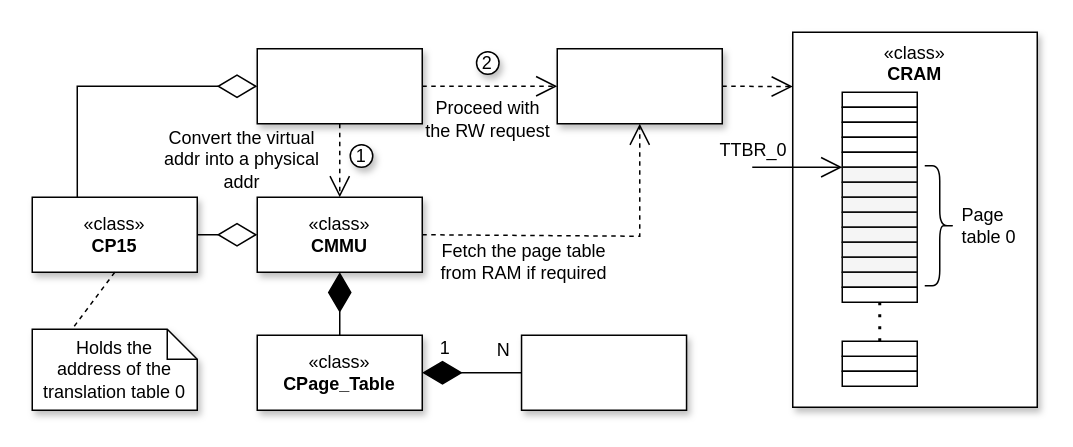
Image size: 1073x447. Some labels were removed from this diagram. The shapes that lost their labels are listed below. From the top down, each one's centre as x and y in pixels, then its label:
[340,87]: «class» CCU_Core
[640,87]: «class» CBus
[605,374]: «class» CPage : uint32_t
